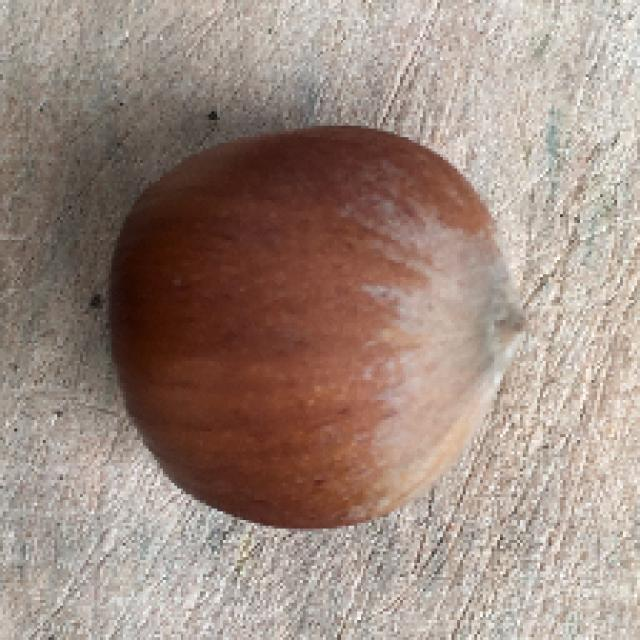qualityHazelnut: (92, 108, 532, 542)
